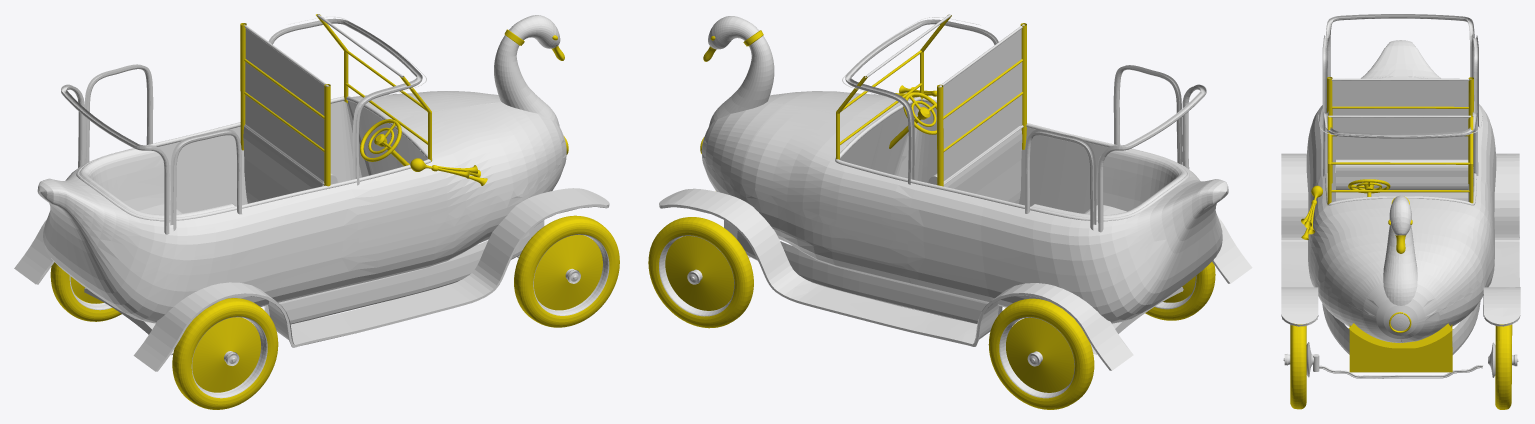
Rendered from SwanCAR2.fbx.
3 renders of one model, left to right at view 1: azimuth 30°, elevation 25°; view 2: azimuth 150°, elevation 25°; view 3: azimuth 270°, elevation 25°, orthographic. The views are drawn at different scales.
Parts seen in each view (by area): view 1: WHITE_089, WHITE_051, Obj_000058, Obj_000038; view 2: WHITE_089, Obj_000047, Obj_000038, Obj_000058; view 3: WHITE_089, Obj_000047, WHITE_051.
Part boxes in pixels (x1,y1,x2,y2): WHITE_089: [14, 14, 609, 371]; WHITE_051: [514, 215, 619, 327]; Obj_000058: [172, 298, 278, 409]; Obj_000038: [50, 262, 121, 321]; WHITE_089: [659, 14, 1252, 370]; Obj_000047: [648, 217, 753, 328]; Obj_000038: [988, 298, 1094, 409]; Obj_000058: [1145, 262, 1215, 320]; WHITE_089: [1281, 14, 1520, 378]; Obj_000047: [1488, 323, 1518, 409]; WHITE_051: [1283, 323, 1313, 409].
Bounding box in the file's own units: 913 × 467 × 428.
